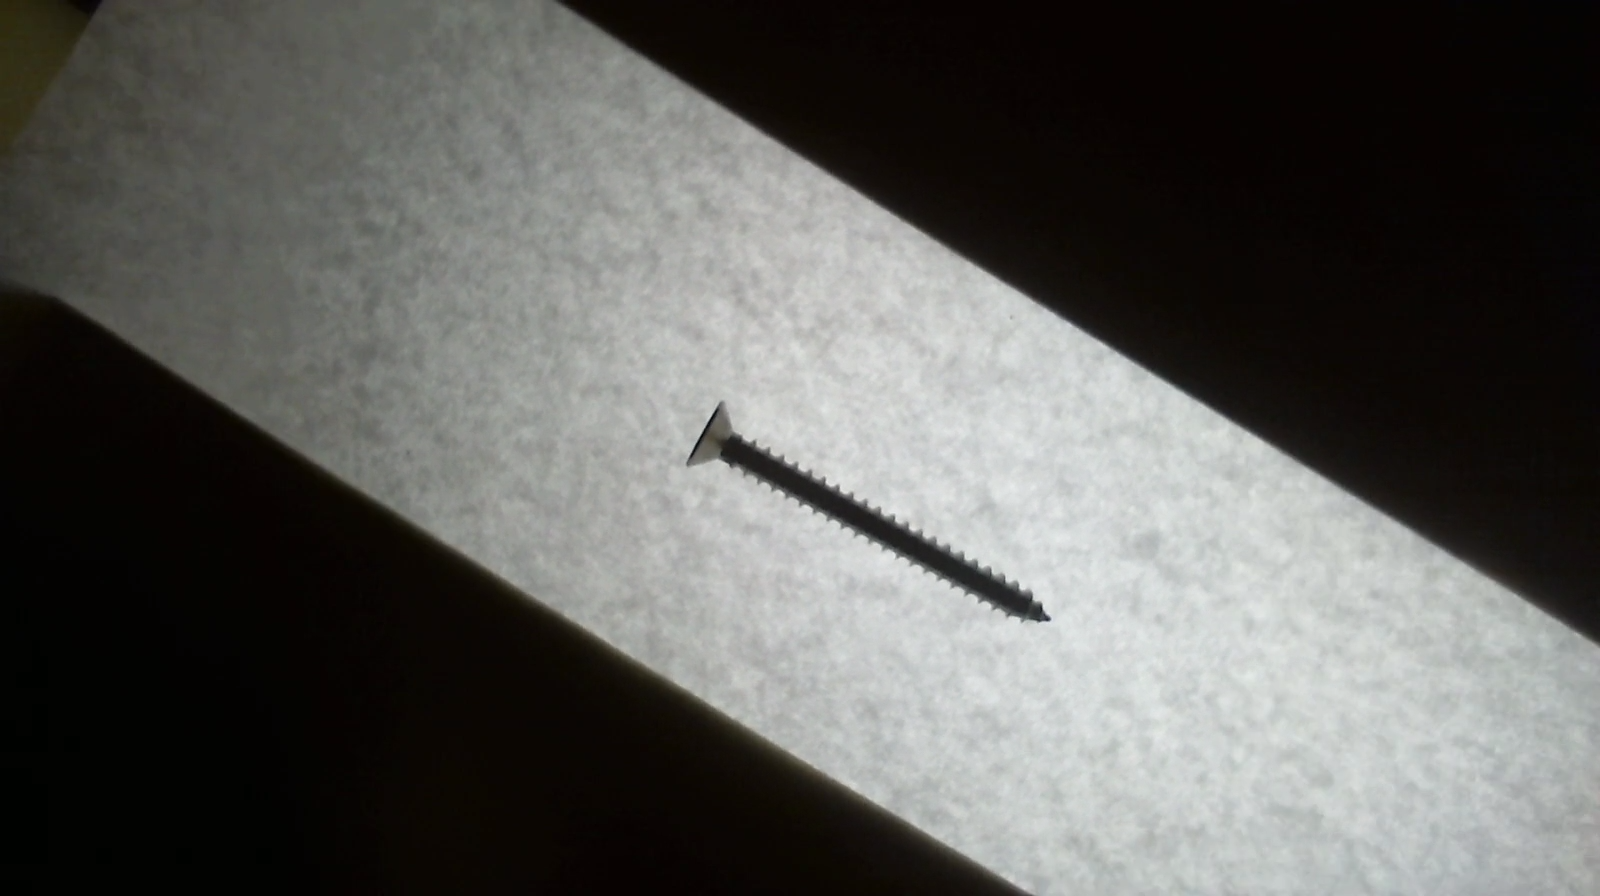S002: (667, 394, 1065, 638)
